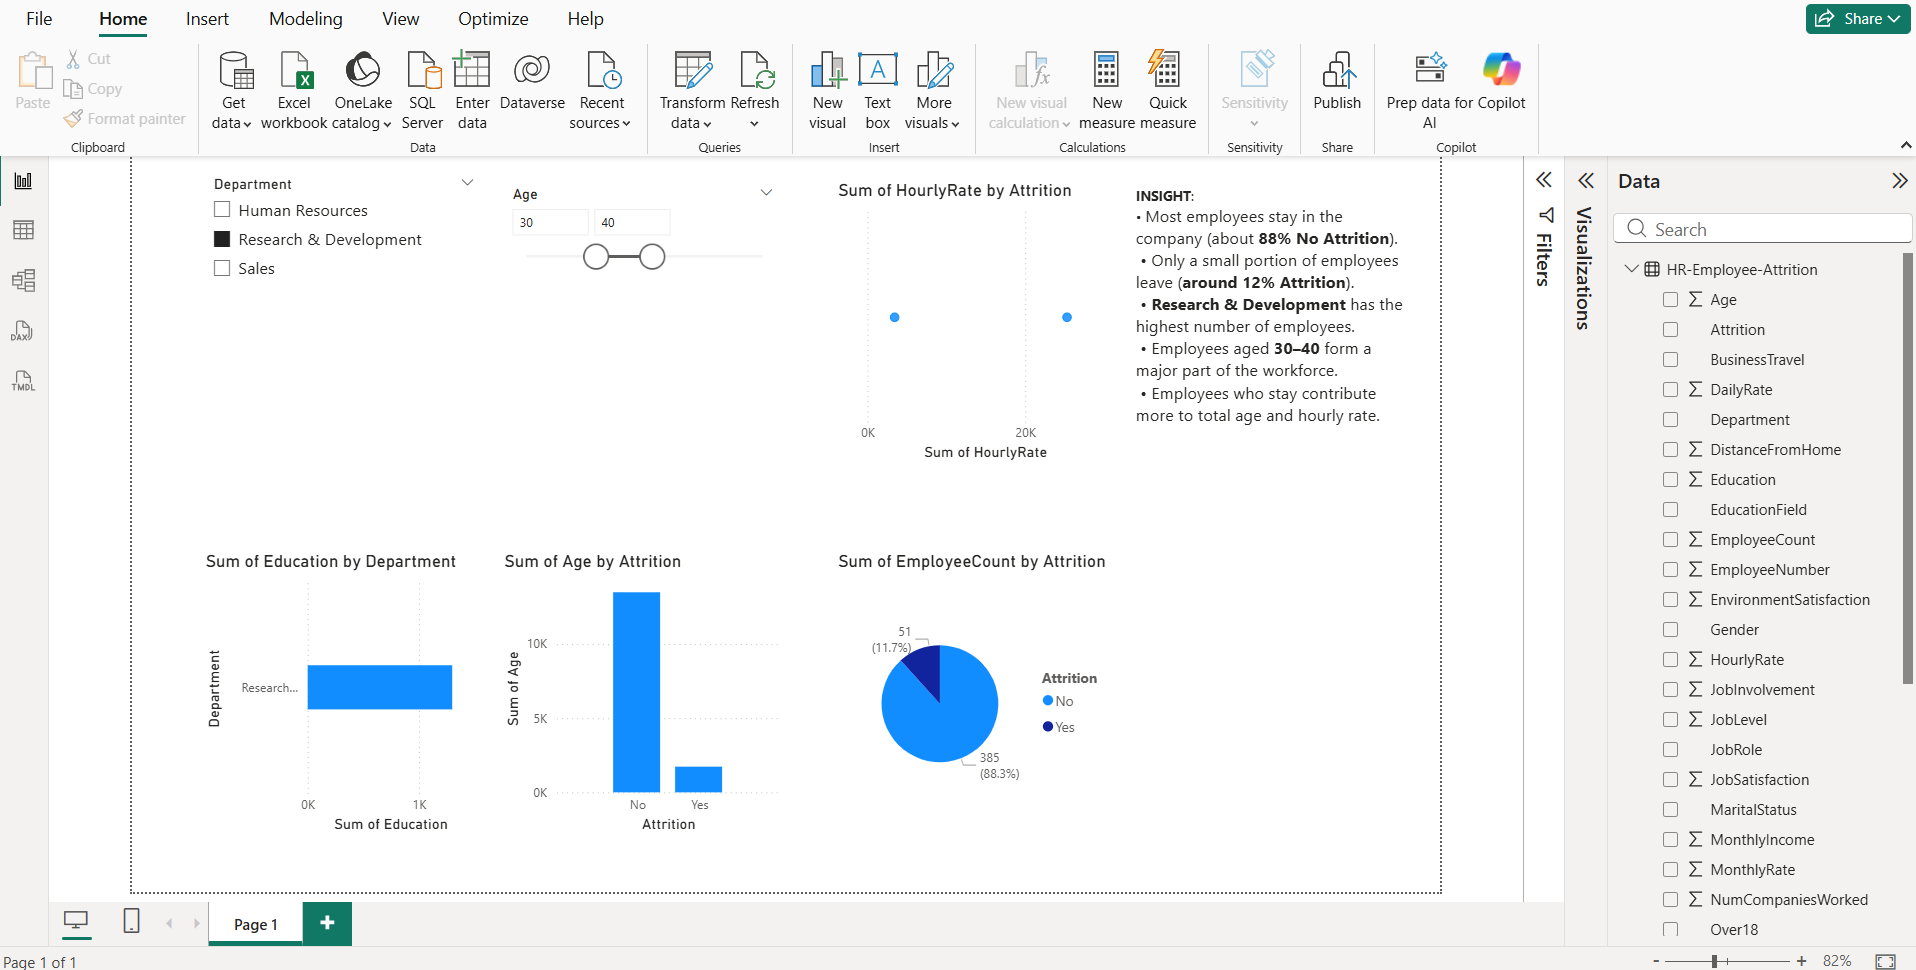

The dashboard page shown, as its layout file describes it:
{"tool":"powerbi","page":{"name":"Page 1","canvas":[1280,720],"ordinal":0},"visuals":[{"type":"pieChart","fields":{"Category":["HR-Employee-Attrition.Attrition"],"Y":["Sum(HR-Employee-Attrition.EmployeeCount)"]},"box":[686.6,386.7,280.1,280.1],"z":0},{"type":"barChart","fields":{"Category":["HR-Employee-Attrition.Department"],"Y":["Sum(HR-Employee-Attrition.Education)"]},"box":[66.9,386.7,280.1,280.1],"z":1},{"type":"columnChart","fields":{"Y":["Sum(HR-Employee-Attrition.Age)"],"Category":["HR-Employee-Attrition.Attrition"]},"box":[359.4,386.7,280.1,280.1],"z":2},{"type":"scatterChart","fields":{"Category":["HR-Employee-Attrition.Attrition"],"X":["Sum(HR-Employee-Attrition.HourlyRate)"]},"box":[686.6,23.5,280.1,280.1],"z":3},{"type":"slicer","fields":{"Values":["HR-Employee-Attrition.Department"]},"box":[66.9,13.6,280.1,280.1],"z":4},{"type":"slicer","fields":{"Values":["HR-Employee-Attrition.Age"]},"box":[359.4,23.5,280.1,280.1],"z":5},{"type":"textbox","box":[977,24,280,280],"z":6}]}

Visuals, with their boxes on the page's 1280x720 design canvas (x1, y1, x2, y2). These are canvas units, not pixel positions in the 1916x970 screenshot, which may show the page scaled, cropped or inside an application window:
pieChart - HR-Employee-Attrition.Attrition x Sum(HR-Employee-Attrition.EmployeeCount): <region>687, 387, 967, 667</region>
barChart - HR-Employee-Attrition.Department x Sum(HR-Employee-Attrition.Education): <region>67, 387, 347, 667</region>
columnChart - Sum(HR-Employee-Attrition.Age) x HR-Employee-Attrition.Attrition: <region>359, 387, 640, 667</region>
scatterChart - HR-Employee-Attrition.Attrition x Sum(HR-Employee-Attrition.HourlyRate): <region>687, 24, 967, 304</region>
slicer - HR-Employee-Attrition.Department: <region>67, 14, 347, 294</region>
slicer - HR-Employee-Attrition.Age: <region>359, 24, 640, 304</region>
textbox: <region>977, 24, 1257, 304</region>
